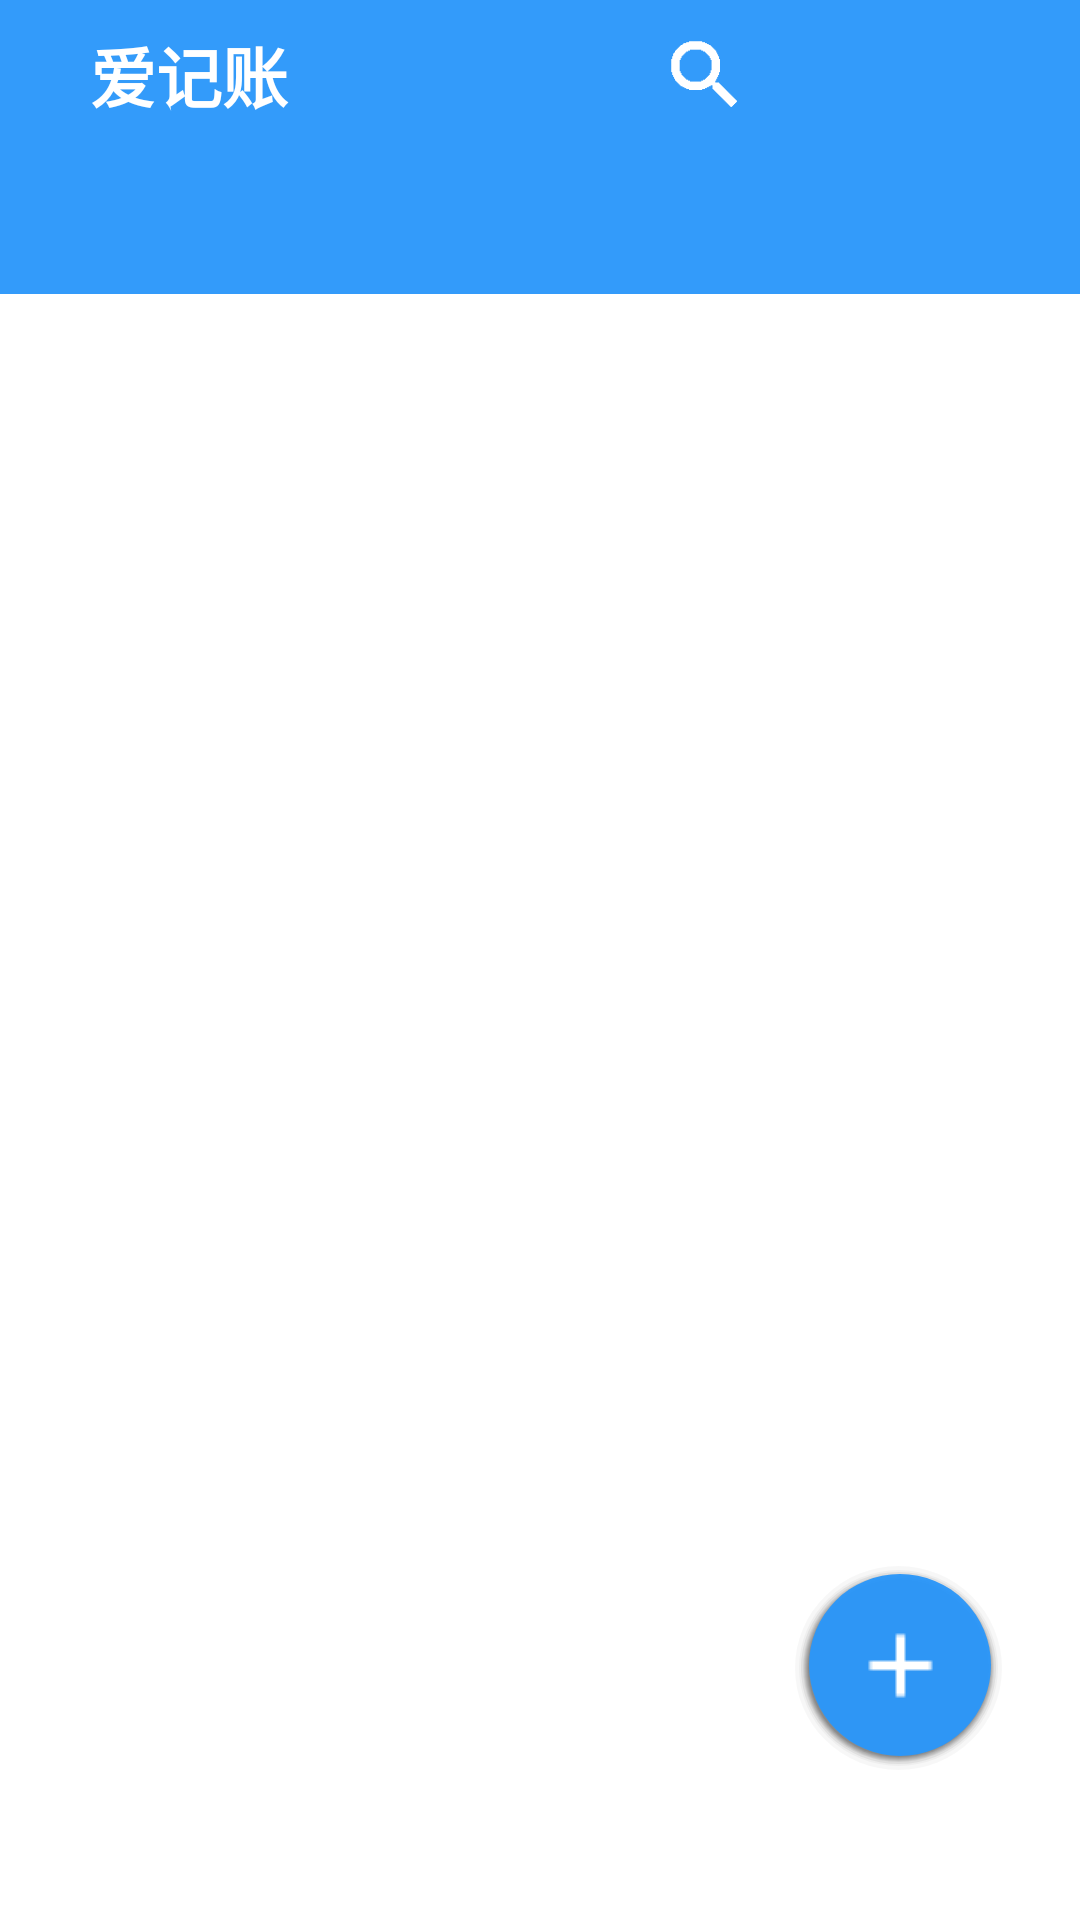

Point at icon controls on the screen. Image size 1080 × 1920, points as (x,y).
add note: (898,1668)
search: (704,74)
